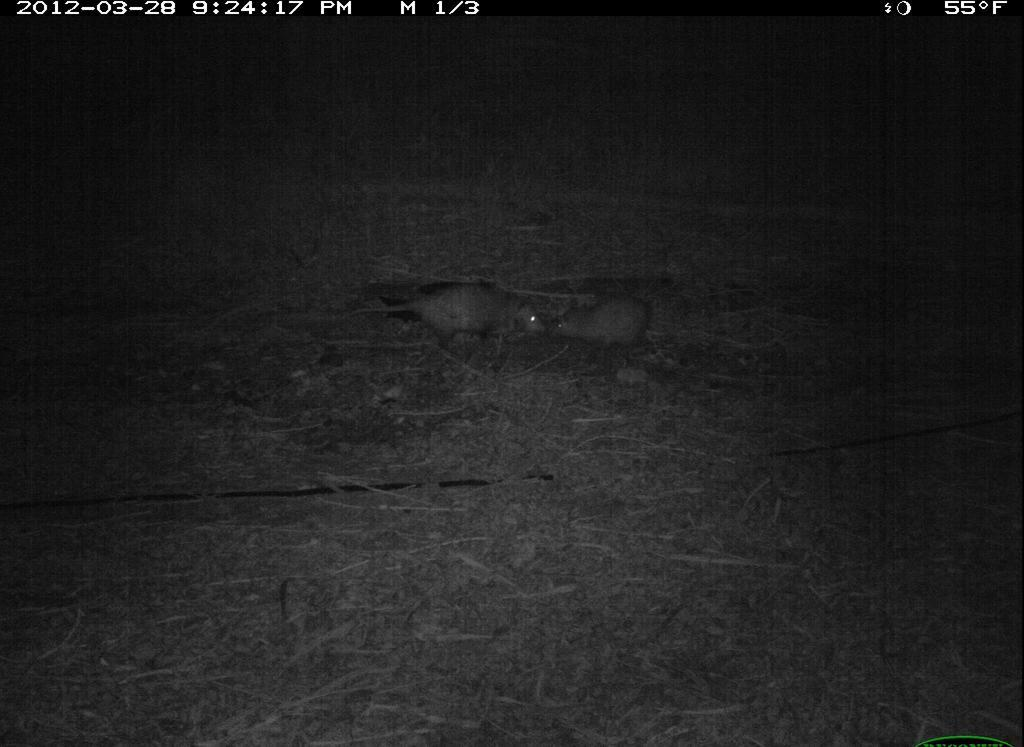opossum: (368, 273, 546, 356), (546, 290, 670, 364)
